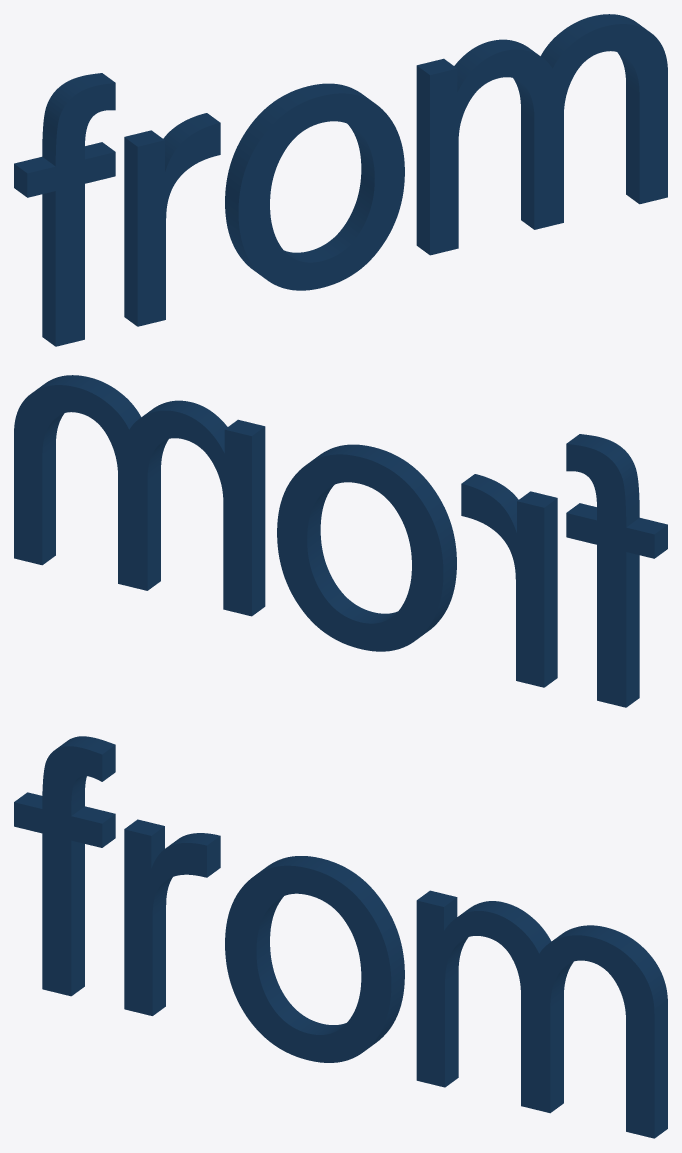
Rendered from from.glb.
3 renders of one model, top to bottom at view 1: azimuth 30°, elevation 25°; view 2: azimuth 150°, elevation 25°; view 3: azimuth 330°, elevation 25°, orthographic.
Parts seen in each view (by area): view 1: mesh_0; view 2: mesh_0; view 3: mesh_0.
Part boxes in pixels (left/top/right/bottom): mesh_0: left=14, top=14, right=667, bottom=346; mesh_0: left=14, top=375, right=667, bottom=707; mesh_0: left=14, top=736, right=667, bottom=1138.
Bounding box in the file's own units: 2.74 × 1.05 × 0.1002.
